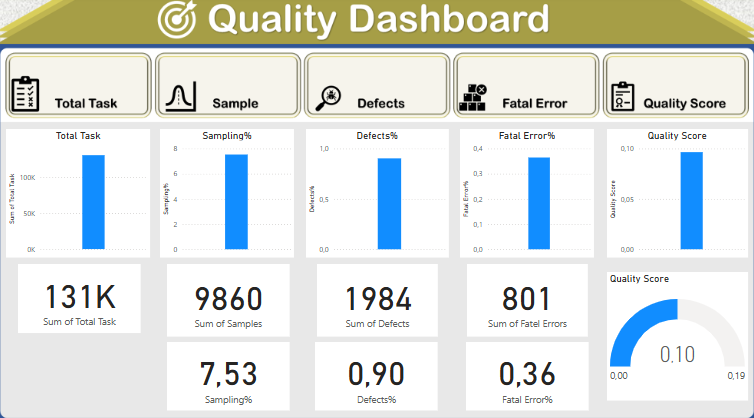

Layout of this report page (visuals, bound fields, positions):
{"tool":"powerbi","page":{"name":"Quality Dashboar_pg1","canvas":[1280,720],"ordinal":0},"visuals":[{"type":"clusteredColumnChart","fields":{"Y":["Quality Data.Sampling%"]},"box":[276.2,223.3,224.8,216],"z":0},{"type":"clusteredColumnChart","fields":{"Y":["Quality Data.Defects%"]},"box":[520.2,223.3,239.5,216],"z":1000},{"type":"clusteredColumnChart","fields":{"Y":["Quality Data.Quality Score"]},"box":[1027.1,223.3,236.6,216],"z":2000},{"type":"clusteredColumnChart","fields":{"Y":["Quality Data.Fatal Error%"]},"box":[780.2,223.3,224.8,216],"z":3000},{"type":"clusteredColumnChart","title":"Total Task","fields":{"Y":["Sum(Quality Data.Total Task)"]},"box":[17.6,223.3,242.4,216],"z":4000},{"type":"card","fields":{"Values":["Sum(Quality Data.Total Task)"]},"box":[36.7,449.6,205.7,116.1],"z":5000},{"type":"card","fields":{"Values":["Sum(Quality Data.Samples)"]},"box":[286.5,449.6,205.7,122],"z":6000},{"type":"card","fields":{"Values":["Sum(Quality Data.Defects)"]},"box":[539.3,449.6,202.8,122],"z":7000},{"type":"card","fields":{"Values":["Sum(Quality Data.Fatel Errors)"]},"box":[792,449.6,202.8,122],"z":8000},{"type":"card","fields":{"Values":["Quality Data.Sampling%"]},"box":[286.5,581.9,205.7,114.6],"z":9000},{"type":"card","fields":{"Values":["Quality Data.Defects%"]},"box":[536.3,581.9,205.7,114.6],"z":10000},{"type":"card","fields":{"Values":["Quality Data.Fatal Error%"]},"box":[789.1,581.9,205.7,114.6],"z":11000},{"type":"gauge","fields":{"Y":["Quality Data.Quality Score"]},"box":[1027.1,462.9,236.6,216],"z":12000}]}

Visuals, with their boxes in screenshot pixels (x1, y1, x2, y2), scaled from the page's 1280x720 canvas onto the 754x418 screenshot:
clusteredColumnChart - Quality Data.Sampling%: region(163, 130, 295, 255)
clusteredColumnChart - Quality Data.Defects%: region(306, 130, 448, 255)
clusteredColumnChart - Quality Data.Quality Score: region(605, 130, 744, 255)
clusteredColumnChart - Quality Data.Fatal Error%: region(460, 130, 592, 255)
"Total Task" clusteredColumnChart: region(10, 130, 153, 255)
card - Sum(Quality Data.Total Task): region(22, 261, 143, 328)
card - Sum(Quality Data.Samples): region(169, 261, 290, 332)
card - Sum(Quality Data.Defects): region(318, 261, 437, 332)
card - Sum(Quality Data.Fatel Errors): region(467, 261, 586, 332)
card - Quality Data.Sampling%: region(169, 338, 290, 404)
card - Quality Data.Defects%: region(316, 338, 437, 404)
card - Quality Data.Fatal Error%: region(465, 338, 586, 404)
gauge - Quality Data.Quality Score: region(605, 269, 744, 394)
